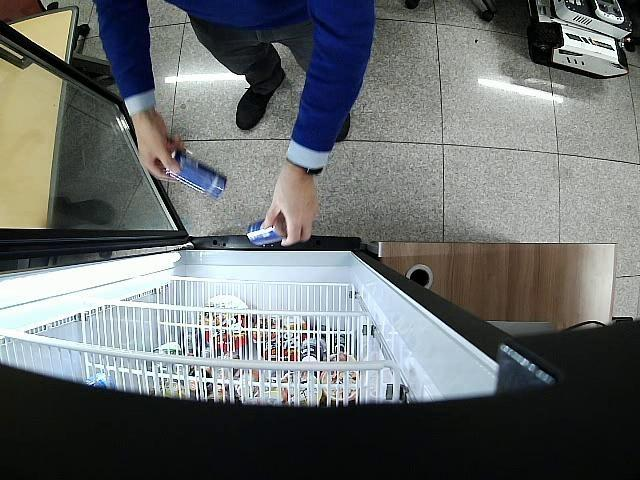16_hot6: (166, 151, 227, 200), (247, 217, 287, 246)
